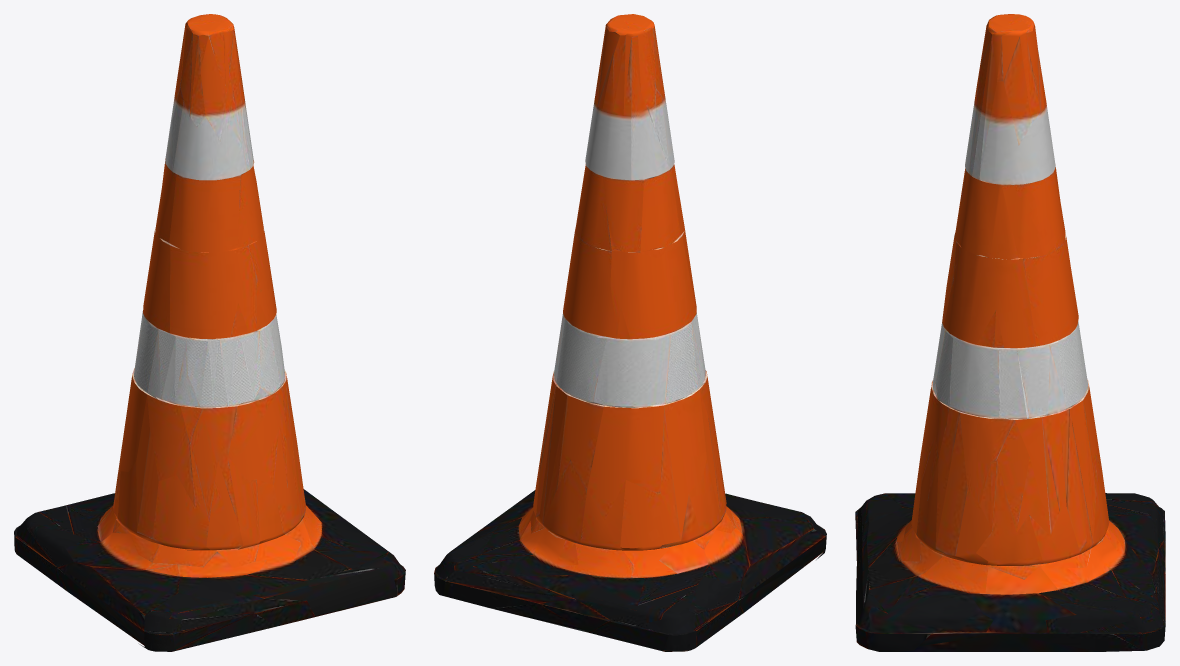
The picture shows the model from 3 angles, left to right: view 1: azimuth 30°, elevation 25°; view 2: azimuth 150°, elevation 25°; view 3: azimuth 270°, elevation 25°; orthographic projection. The views are drawn at different scales.
Bounding box in the file's own units: 0.9482 × 1.9 × 0.9482.
Materials: 1 (1 with a texture image).
